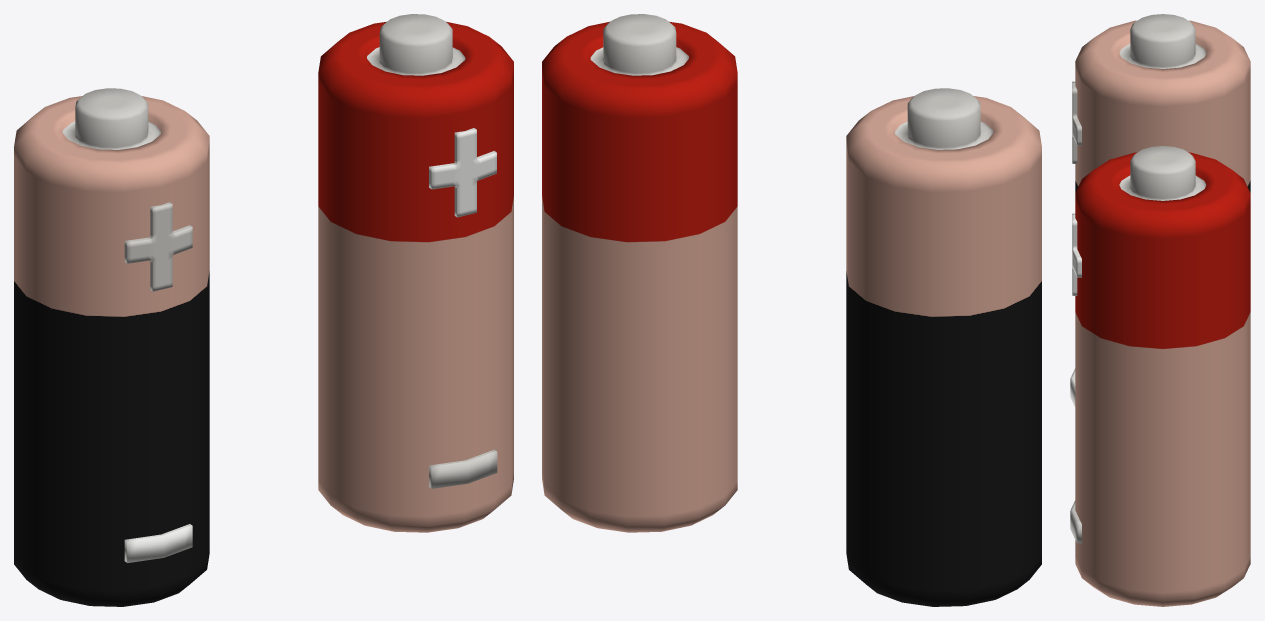
The model's file is batteries3d.glb.
3 views of the same model, side by side, from view 1: azimuth 30°, elevation 25°; view 2: azimuth 150°, elevation 25°; view 3: azimuth 270°, elevation 25° (orthographic). The views are drawn at different scales.
Parts seen in each view (by area): view 1: Circle, Circle.003, Circle.002, Circle.005, Circle.001, Circle.004; view 2: Circle, Circle.003; view 3: Circle.003, Circle, Circle.002, Circle.005, Circle.004.
Part boxes in pixels (x1,y1,x2,y2): Circle: (14, 88, 209, 606); Circle.003: (318, 14, 513, 532); Circle.002: (124, 202, 192, 291); Circle.005: (429, 128, 496, 217); Circle.001: (124, 524, 192, 562); Circle.004: (429, 449, 497, 488); Circle: (846, 88, 1041, 606); Circle.003: (542, 14, 737, 532); Circle.003: (1075, 146, 1250, 606); Circle: (1075, 14, 1250, 192); Circle.002: (1072, 81, 1081, 163); Circle.005: (1072, 213, 1081, 295); Circle.004: (1070, 500, 1081, 543).
Bounding box in the file's own units: 5.56 × 5.25 × 2.06.
Materials: 1 (1 with a texture image).
